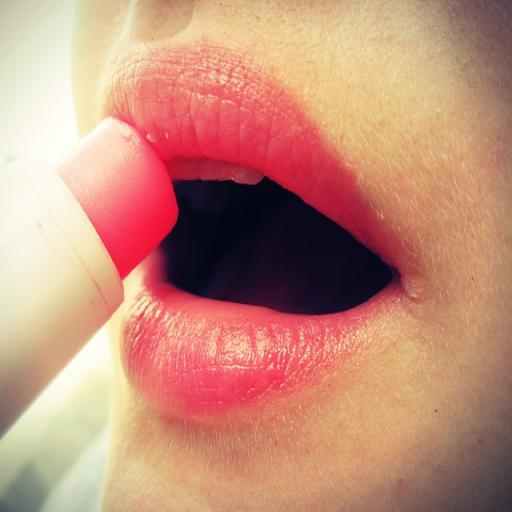lipstick: (0, 119, 177, 431)
